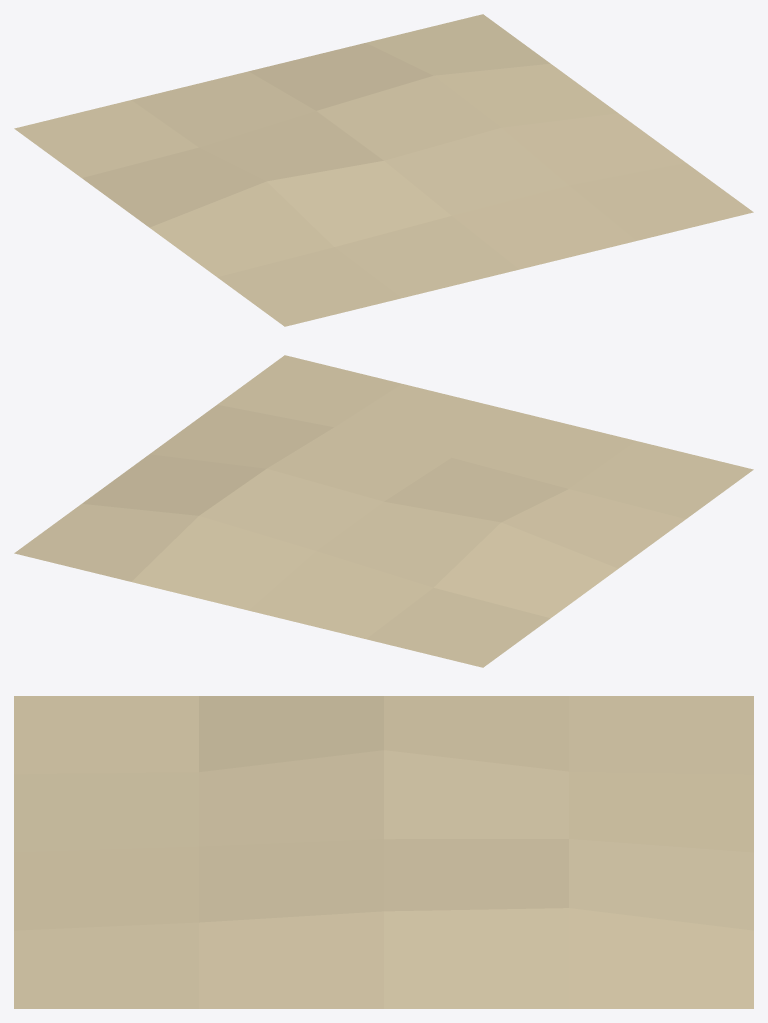
The model's file is Tile_15_Sand_Dark.glb.
3 renders of one model, top to bottom at view 1: azimuth 30°, elevation 25°; view 2: azimuth 150°, elevation 25°; view 3: azimuth 270°, elevation 25°, orthographic. The views are drawn at different scales.
Visible parts, largest first — view 1: Tile_Sand_Dark; view 2: Tile_Sand_Dark; view 3: Tile_Sand_Dark.
Part boxes in pixels (<box>): Tile_Sand_Dark: <box>14,14,753,326</box>; Tile_Sand_Dark: <box>14,355,753,667</box>; Tile_Sand_Dark: <box>14,696,753,1008</box>.
Bounding box in the file's own units: 0.2 × 0.0072 × 0.2.
